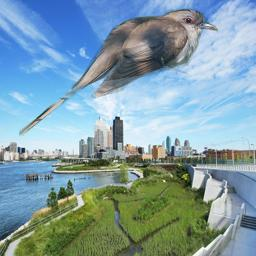Cuckoo: (19, 8, 218, 137)
